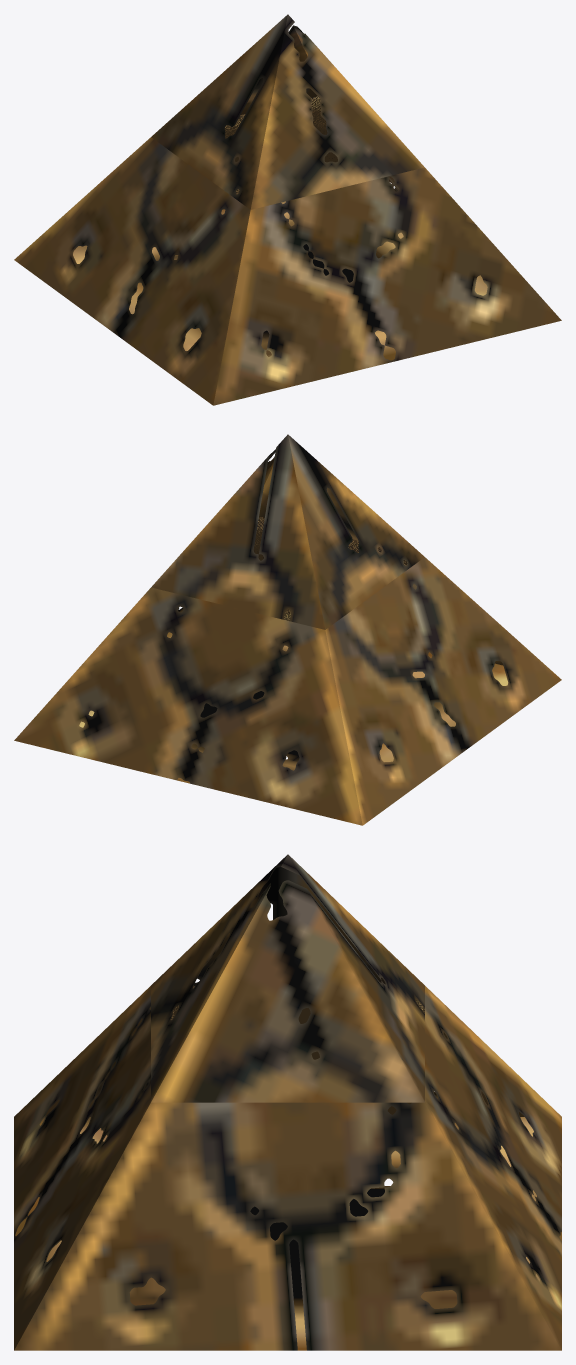
Rendered from trap.fbx.
The picture shows the model from 3 angles, top to bottom: view 1: azimuth 30°, elevation 25°; view 2: azimuth 150°, elevation 25°; view 3: azimuth 270°, elevation 25°; orthographic projection. The views are drawn at different scales.
Parts seen in each view (by area): view 1: obj0; view 2: obj0; view 3: obj0.
Boxes of the visible parts, bbox=[...] form: obj0: bbox=[14, 14, 561, 405]; obj0: bbox=[14, 434, 561, 825]; obj0: bbox=[14, 854, 561, 1350].
Size of the model in its own units: 0.308 by 0.233 by 0.3048.
